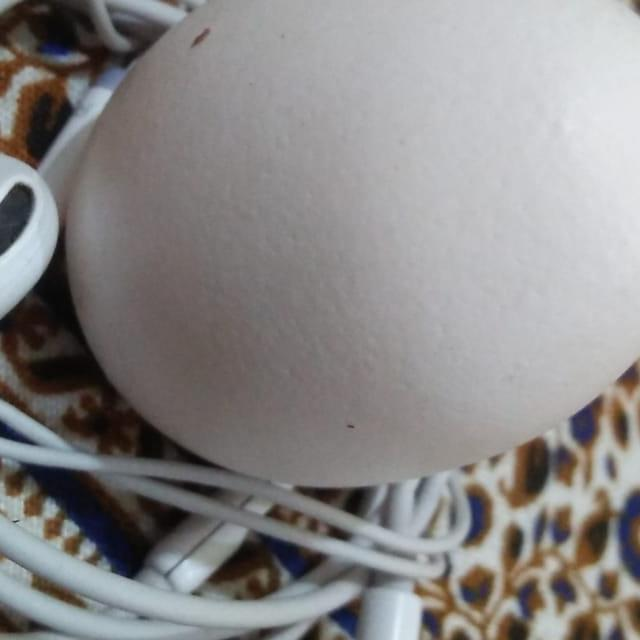egg: (30, 0, 640, 550)
